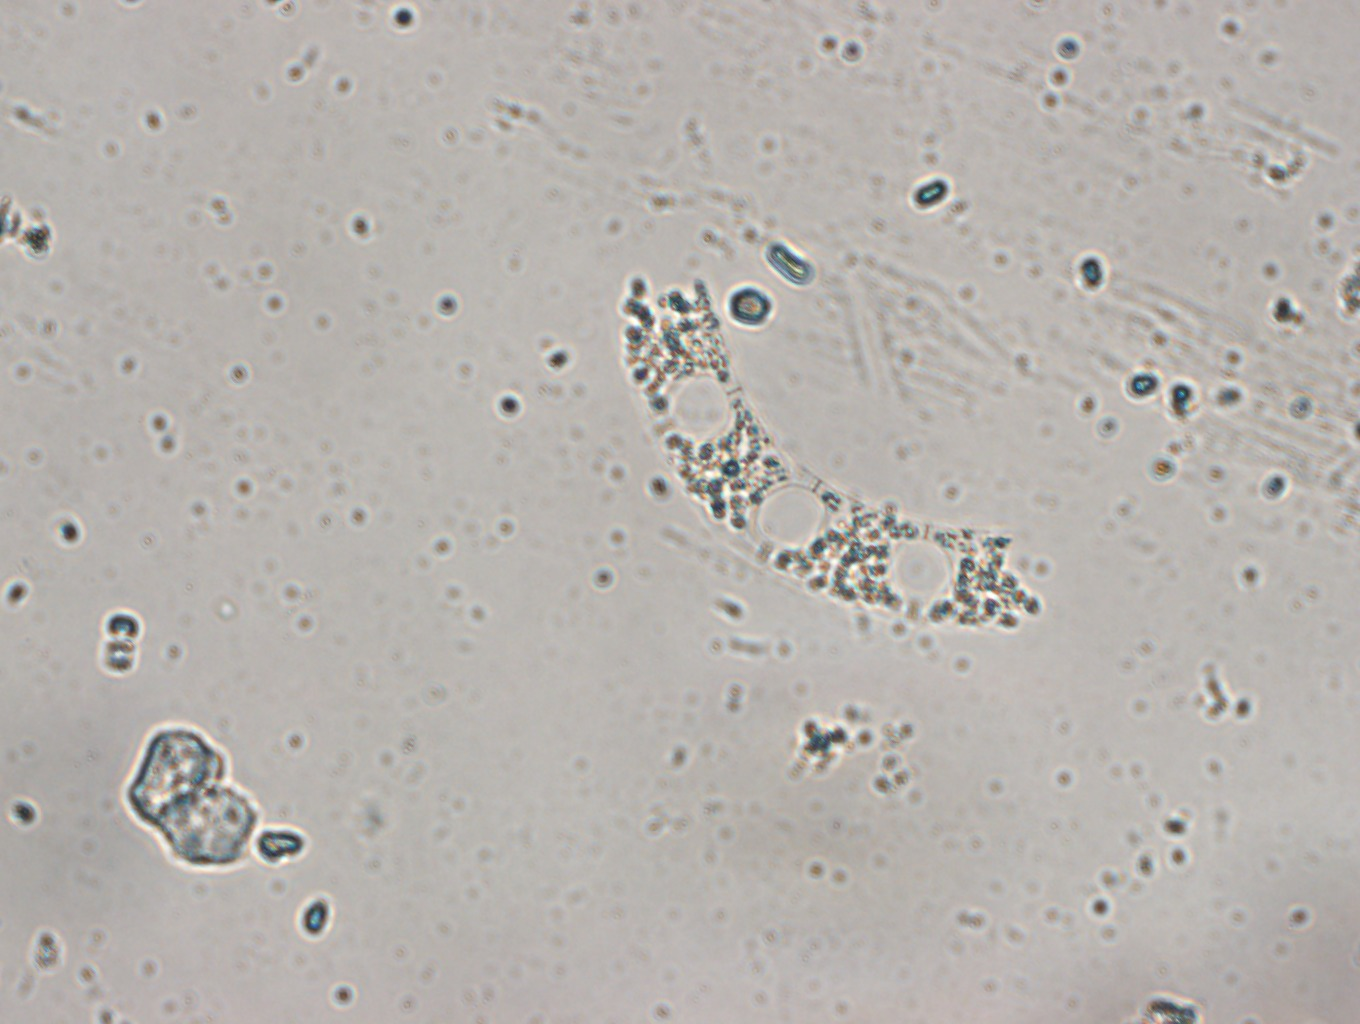eucampia: (607, 272, 1037, 632)
